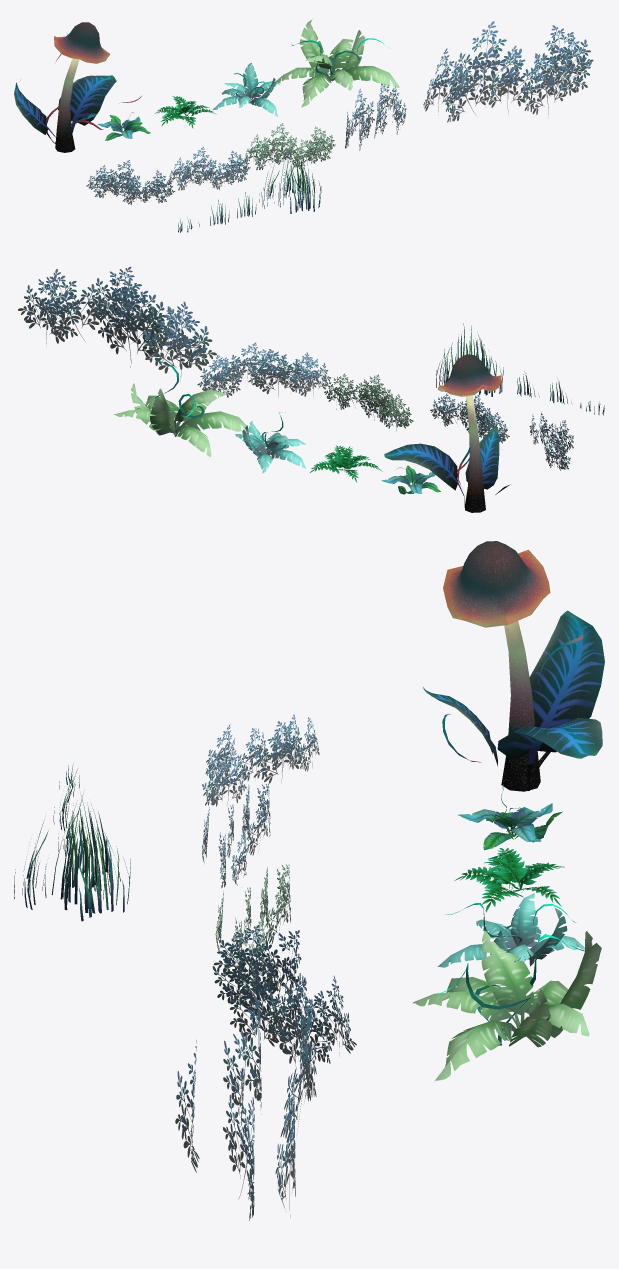
The model's file is fantasyPlantsSet_edit_for_FBX.fbx.
3 views of the same model, one above another, from view 1: azimuth 30°, elevation 25°; view 2: azimuth 150°, elevation 25°; view 3: azimuth 270°, elevation 25° (orthographic). The views are drawn at different scales.
Visible parts, largest first — view 1: plants09, plants14, plants13, plants07, plants05, plants06, plants08, plants12, plants04, plants11, plants10; view 2: plants09, plants14, plants13, plants08, plants07, plants12, plants06, plants05, plants11, plants04, plants10; view 3: plants14, plants13, plants09, plants08, plants05, plants04, plants12, plants11, plants10, plants07, plants06.
Boxes of the visible parts, x1,y1,x2,y2 form: plants09: (423, 21, 593, 122); plants14: (14, 22, 141, 152); plants13: (275, 19, 399, 107); plants07: (243, 123, 335, 169); plants05: (86, 160, 175, 204); plants06: (167, 146, 250, 190); plants08: (345, 83, 406, 150); plants12: (212, 63, 280, 116); plants04: (259, 148, 321, 213); plants11: (155, 96, 216, 128); plants10: (97, 112, 150, 140); plants09: (18, 266, 216, 381); plants14: (384, 354, 510, 512); plants13: (113, 361, 249, 457); plants08: (197, 342, 330, 398); plants07: (324, 373, 413, 431); plants12: (235, 412, 305, 473); plants06: (430, 393, 509, 443); plants05: (529, 412, 573, 470); plants11: (310, 445, 382, 482); plants04: (436, 323, 503, 396); plants10: (381, 465, 440, 494); plants14: (423, 541, 604, 791); plants13: (412, 930, 601, 1081); plants09: (175, 980, 316, 1220); plants08: (212, 925, 356, 1063); plants05: (202, 714, 319, 809); plants04: (14, 794, 130, 921); plants12: (437, 893, 584, 967); plants11: (454, 848, 564, 912); plants10: (458, 779, 562, 850); plants07: (215, 864, 290, 974); plants06: (202, 783, 270, 888).
Bounding box in the file's own units: 17785 × 4970 × 8887.
